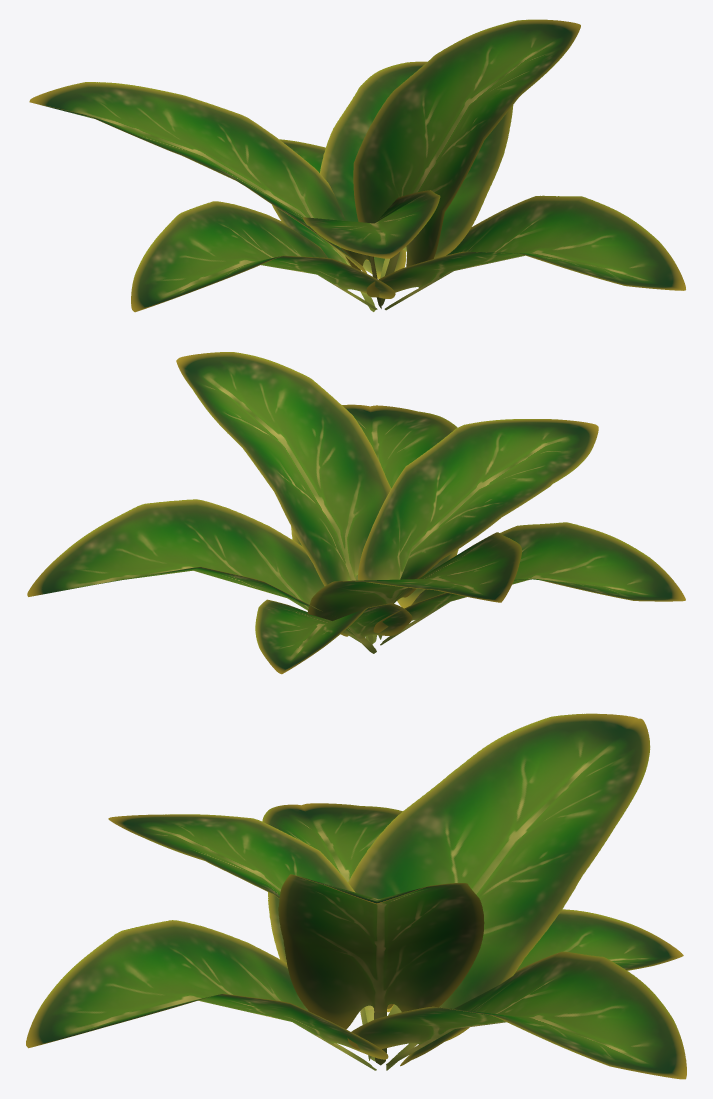
Rendered from SM_LargeGroundplant.fbx.
3 renders of one model, top to bottom at view 1: azimuth 30°, elevation 25°; view 2: azimuth 150°, elevation 25°; view 3: azimuth 270°, elevation 25°, orthographic. The views are drawn at different scales.
Visible parts, largest first — view 1: SM_LargeGroundplant; view 2: SM_LargeGroundplant; view 3: SM_LargeGroundplant.
Boxes of the visible parts, x1,y1,x2,y2 form: SM_LargeGroundplant: [29, 19, 685, 312]; SM_LargeGroundplant: [27, 352, 685, 674]; SM_LargeGroundplant: [26, 713, 686, 1079].
Size of the model in its own units: 93.33 by 92.27 by 42.37.
Materials: 1 (1 with a texture image).
